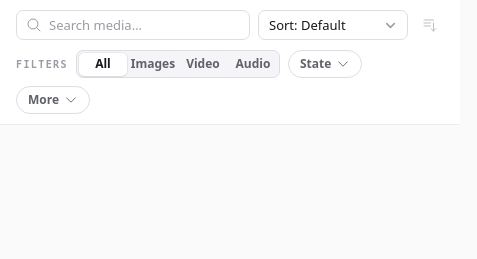
Test: FilterToolbar Component › renders filters with a Type dropdown
Expected: the text "Filters" is shown, [16, 56, 68, 72]
Step 1. Click the button "More" → (53, 100), box [16, 86, 90, 114]
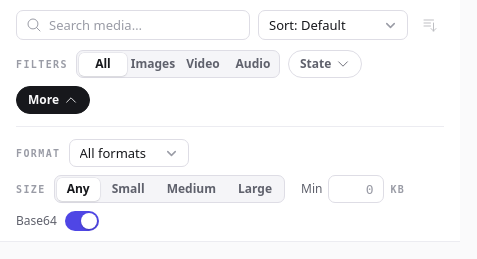
Result: the dropdown named "Media format" is shown at [68, 139, 188, 167]
